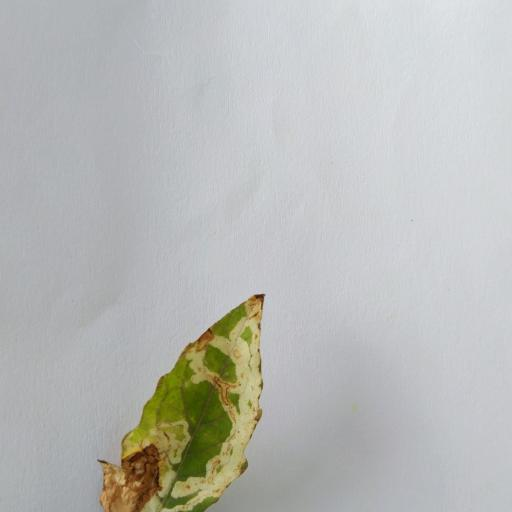Leaf Miner: (94, 282, 268, 512)
